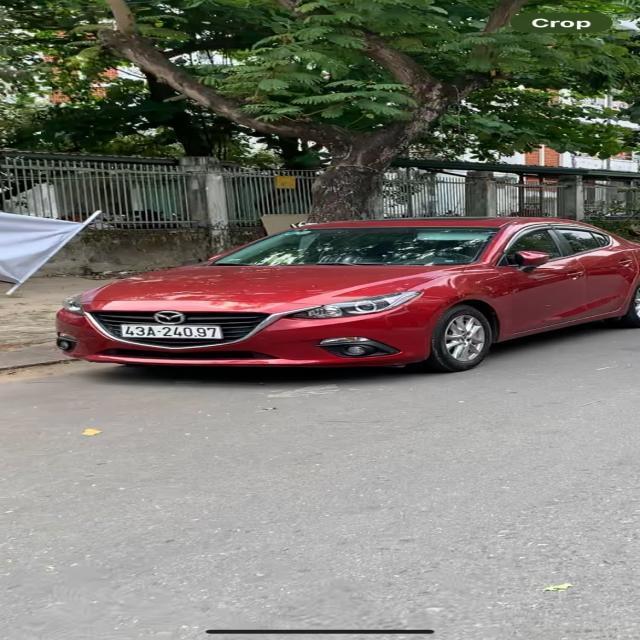car: (33, 212, 640, 390)
plate: (112, 315, 227, 347)
